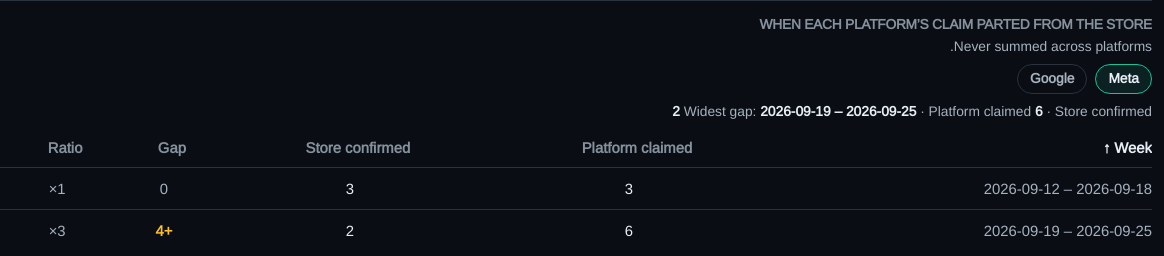
it: AttributionDisagreementView › shows one platform at a time, names where its claim ran furthest ahead, and gives no ratio where the store confirmed nothing
The width and height of the screenshot is (1164, 256).
Expected: the element with test id "disagreement-widest" shows "2026-09-19 – 2026-09-25", [760,103,916,119]
Expected: the element with test id "disagreement-table-meta" shows "+4", [156,222,172,240]
Click the tab with test id "disagreement-platform-google" at (1052, 79), box [1017,64,1087,94]
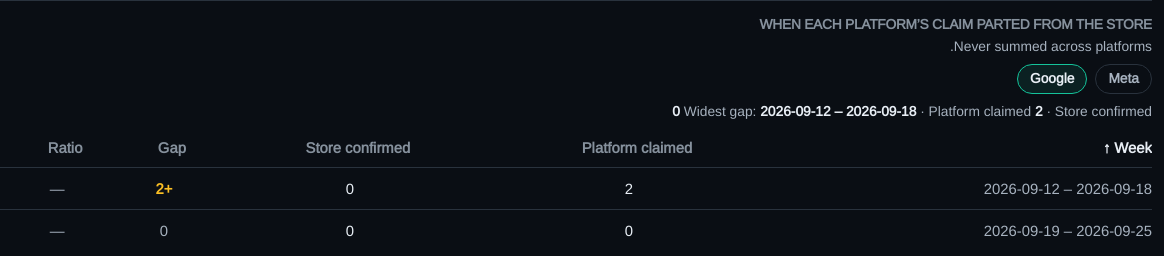
Expected: the text "—" next to "+2" is shown, [50,180,64,197]
